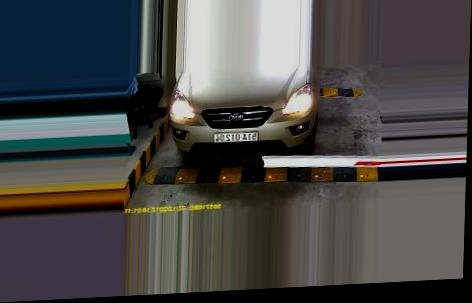License_Plate: (212, 128, 260, 146)
